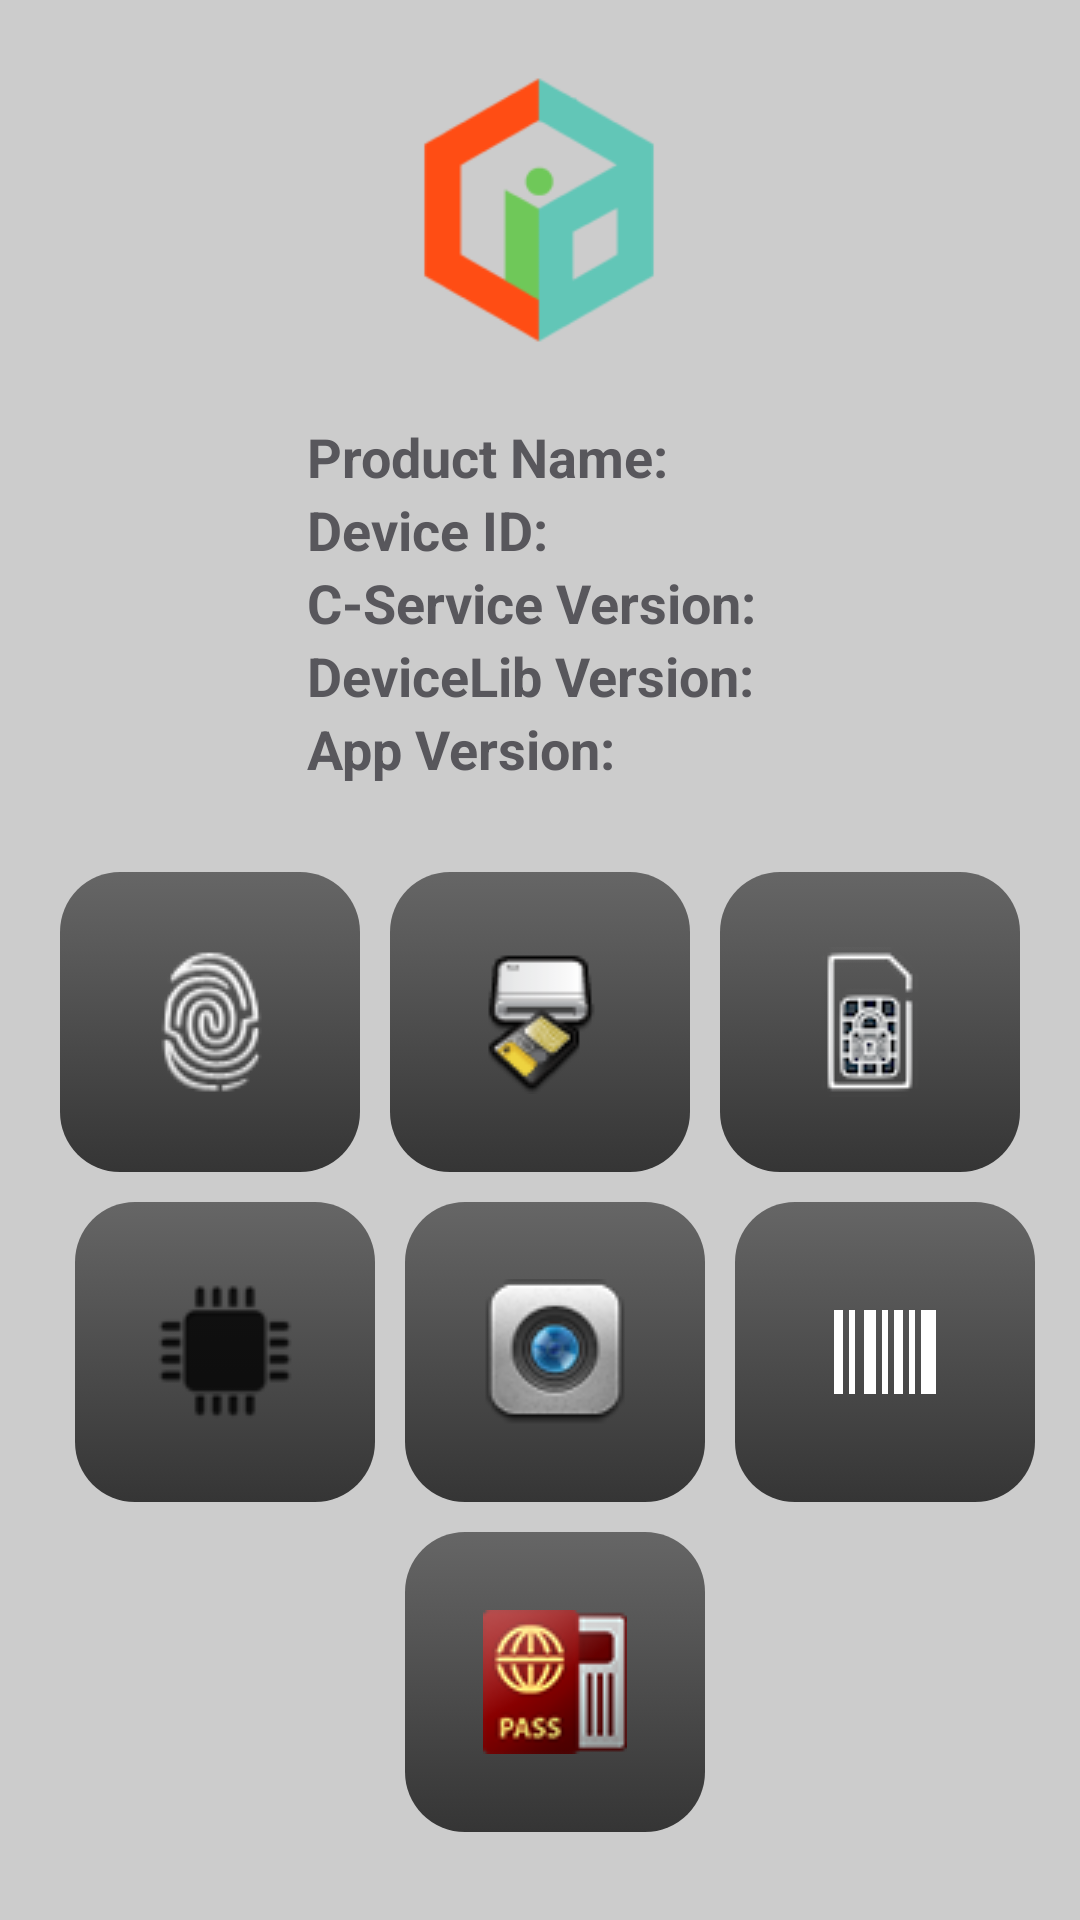

Named icons in this screenshot (1080px x 1920px) and their centers, (x=x, y=y):
barcode: (x=885, y=1352)
camera: (x=555, y=1352)
card reader: (x=540, y=1022)
device and hardware: (x=225, y=1352)
fingerprint: (x=210, y=1022)
sam: (x=870, y=1022)
